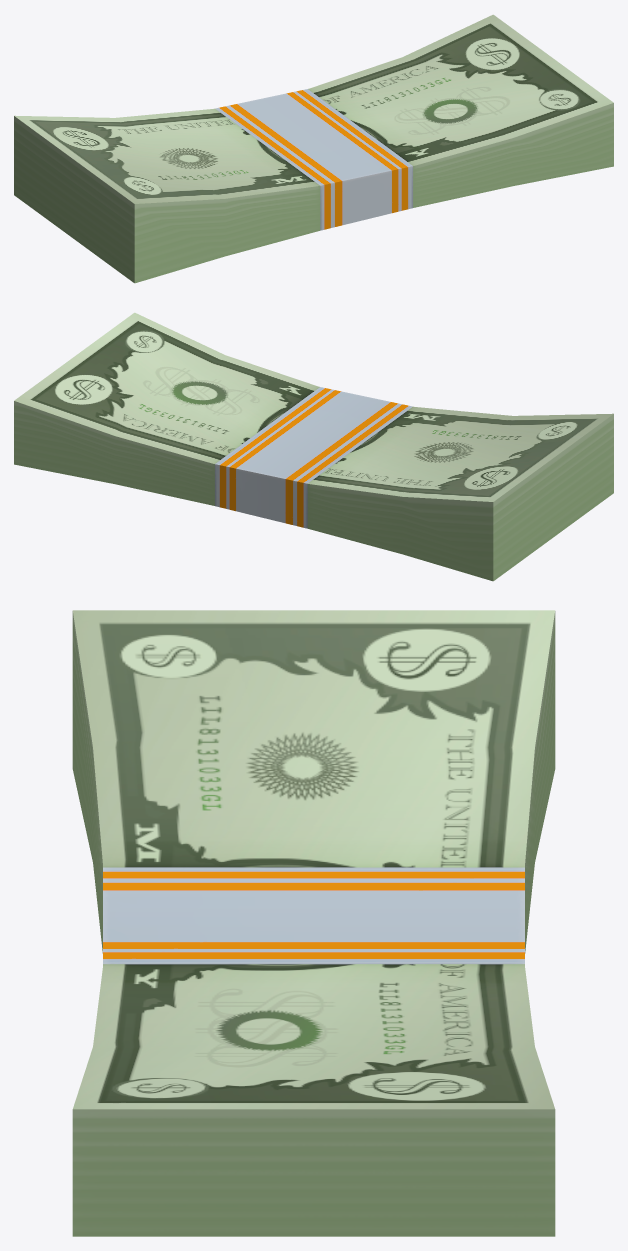
Rendered from BankMoney01_2.FBX.
3 renders of one model, top to bottom at view 1: azimuth 30°, elevation 25°; view 2: azimuth 150°, elevation 25°; view 3: azimuth 270°, elevation 25°, orthographic. The views are drawn at different scales.
Parts seen in each view (by area): view 1: BankMoney01_2; view 2: BankMoney01_2; view 3: BankMoney01_2.
Part boxes in pixels (x1,y1,x2,y2): BankMoney01_2: (14,14,613,283); BankMoney01_2: (14,312,613,581); BankMoney01_2: (72,610,555,1236).
Size of what is drawn, in the model's own units: 0.1968 by 0.0311 by 0.0858.
